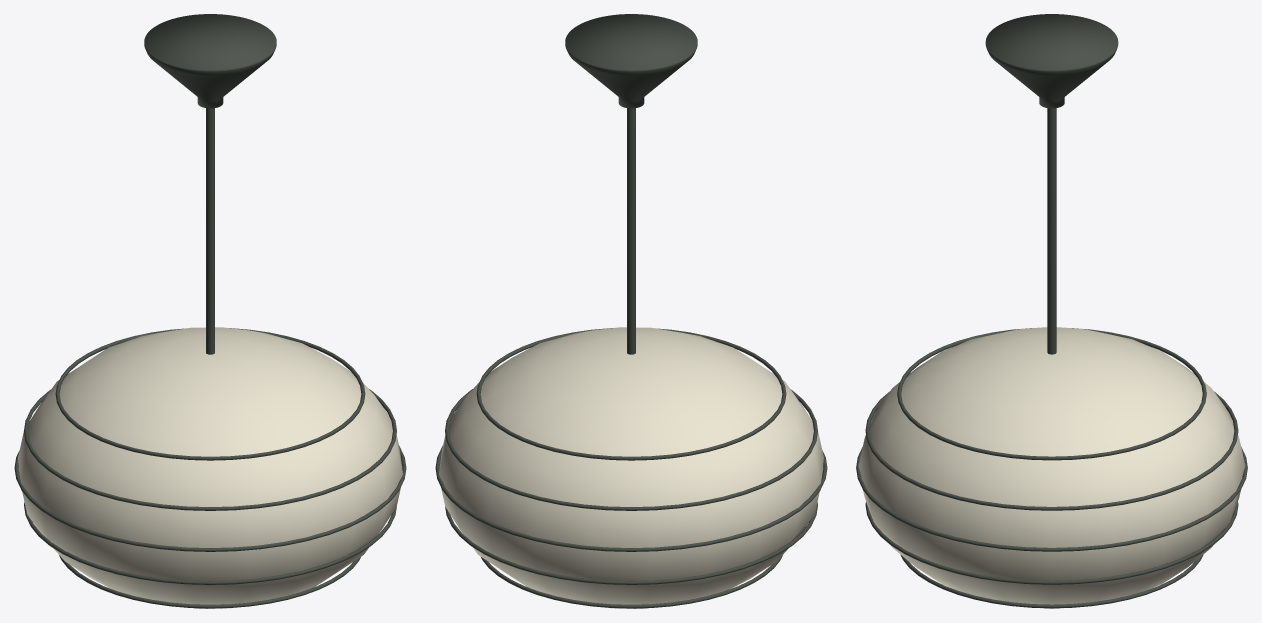
Rendered from fixture-1.glb.
3 renders of one model, left to right at view 1: azimuth 30°, elevation 25°; view 2: azimuth 150°, elevation 25°; view 3: azimuth 270°, elevation 25°, orthographic.
Parts seen in each view (by area): view 1: japanese-game-cafe fixture-1; view 2: japanese-game-cafe fixture-1; view 3: japanese-game-cafe fixture-1.
Part boxes in pixels (box(x1,y1,x2,y2)): japanese-game-cafe fixture-1: box(14, 14, 406, 608); japanese-game-cafe fixture-1: box(435, 14, 827, 608); japanese-game-cafe fixture-1: box(856, 14, 1247, 608).
Bounding box in the file's own units: 0.768 × 1.17 × 0.768.
